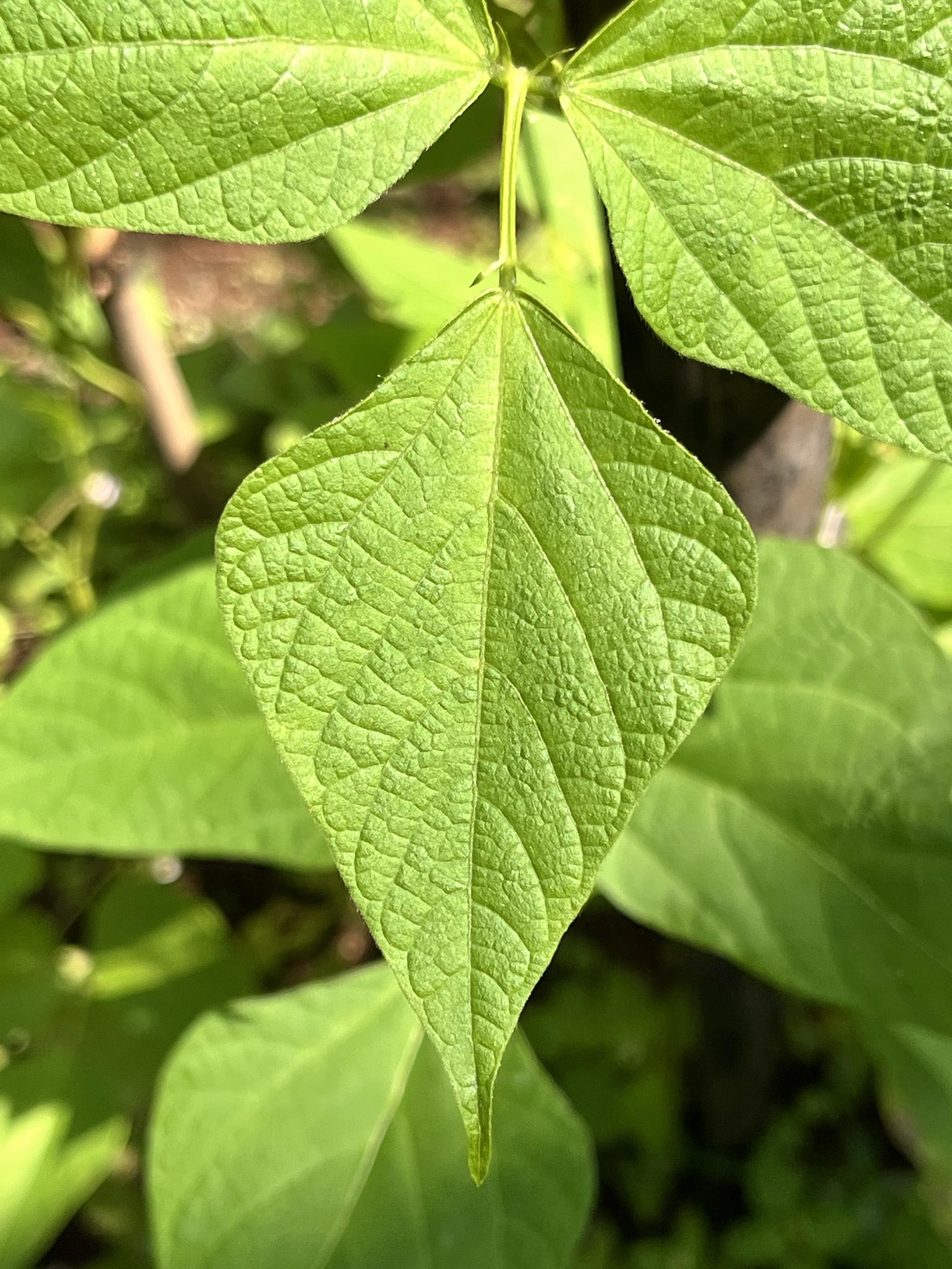sehat: (211, 291, 763, 1192)
